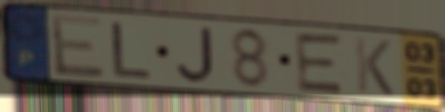8: (228, 26, 274, 91)
E: (47, 11, 107, 80), (292, 30, 347, 97)
J: (174, 25, 217, 85)
K: (352, 34, 396, 99)
L: (110, 20, 155, 81)
